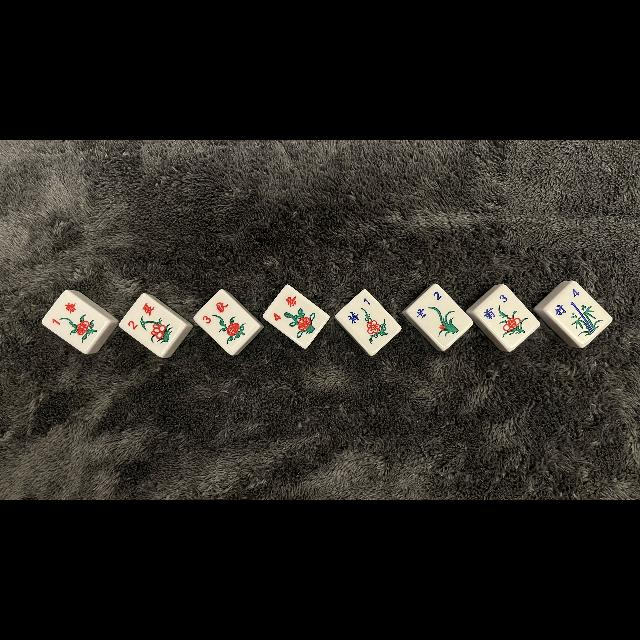f1: (345, 294, 375, 324)
f2: (414, 290, 446, 320)
f3: (482, 294, 511, 326)
f4: (552, 286, 584, 320)
s1: (48, 298, 82, 328)
s2: (125, 300, 157, 330)
s3: (200, 300, 234, 328)
s4: (268, 292, 302, 324)
